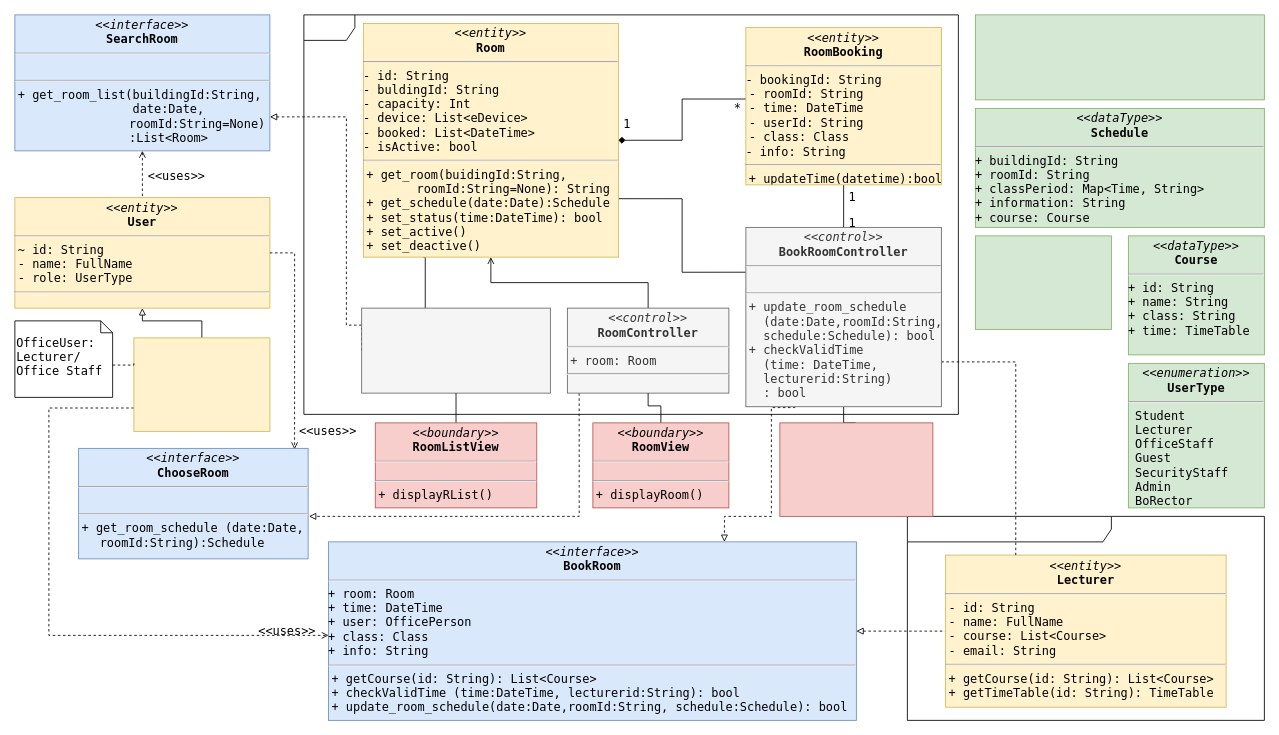
Some shapes in this 1279 by 735 pixel diagram are drawn without their labels. The box of each missing label's shape, as (x1, y1, x2, y2) in pixels:
<<boundary>> RoomBookingView + displayRBooking() + displayNoti(String): (779, 422, 933, 516)
<<control>> RoomListController + listRoom: List<Room>: (361, 307, 550, 393)
<<dataType>> FullName + fName: String + mName: String + lName: String: (975, 235, 1111, 329)
<<dataType>> TimeTable + datetime: Map<DateofWeek, List<time>> + week: Int: (975, 14, 1264, 100)
<<entity>> OfficeUser + getoId(): String: (133, 337, 270, 431)
ROMS: (303, 14, 958, 414)
User Management System: (907, 516, 1264, 720)
